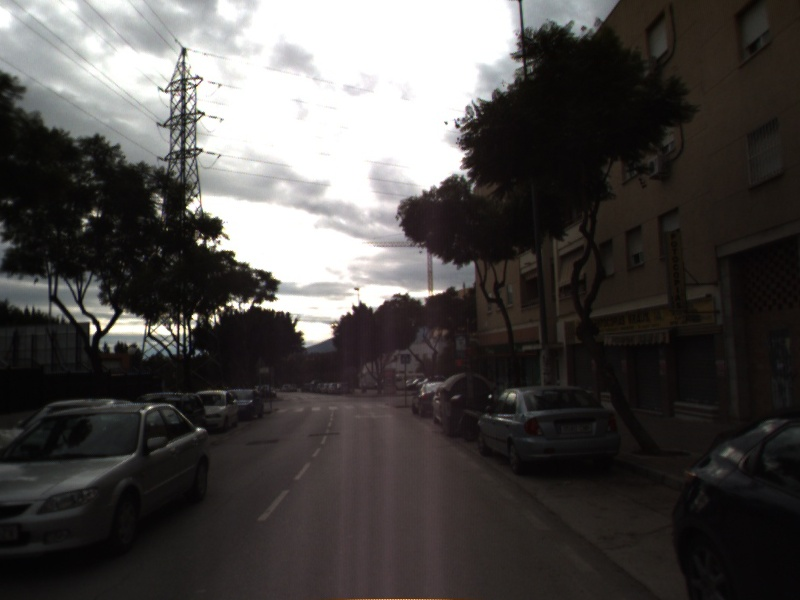STRAIGHT_LEFT_RIGHT: (352, 408, 397, 421)
